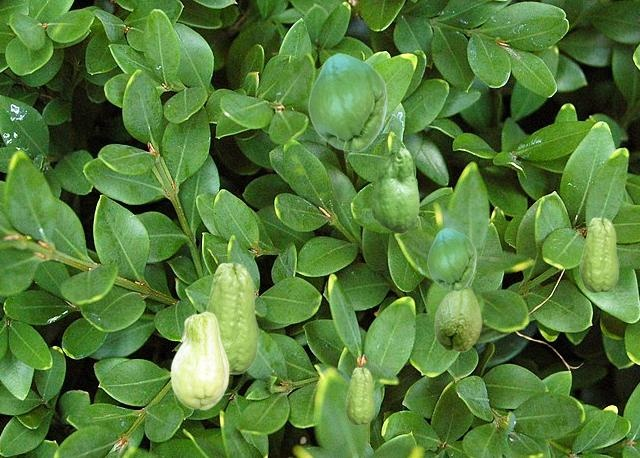sayote: (308, 53, 386, 151), (205, 262, 258, 374), (170, 311, 228, 409), (371, 147, 418, 232), (434, 286, 481, 351), (427, 228, 475, 290), (579, 217, 618, 292), (345, 367, 374, 424)
